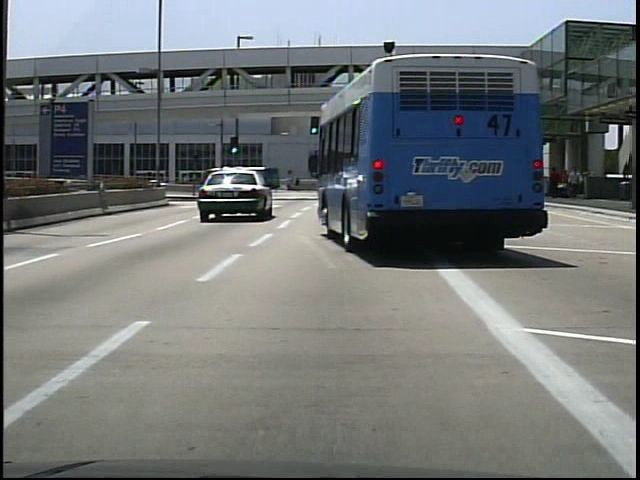person: (566, 166, 584, 201), (549, 167, 561, 200), (559, 168, 569, 198), (292, 176, 302, 195), (280, 176, 291, 193)
